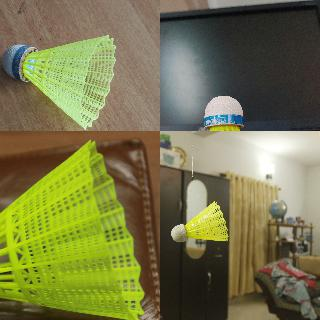shuttlecock: (0, 138, 145, 319), (1, 36, 114, 130), (177, 95, 278, 130), (170, 200, 228, 242)
